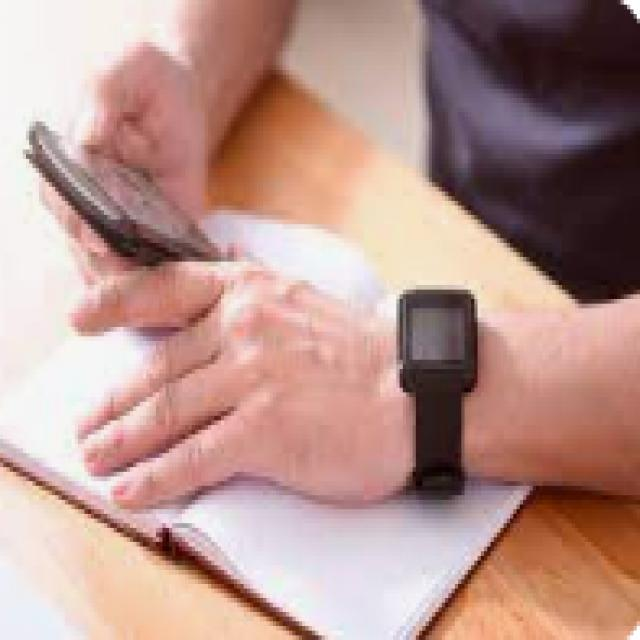Watch: (394, 282, 477, 495)
